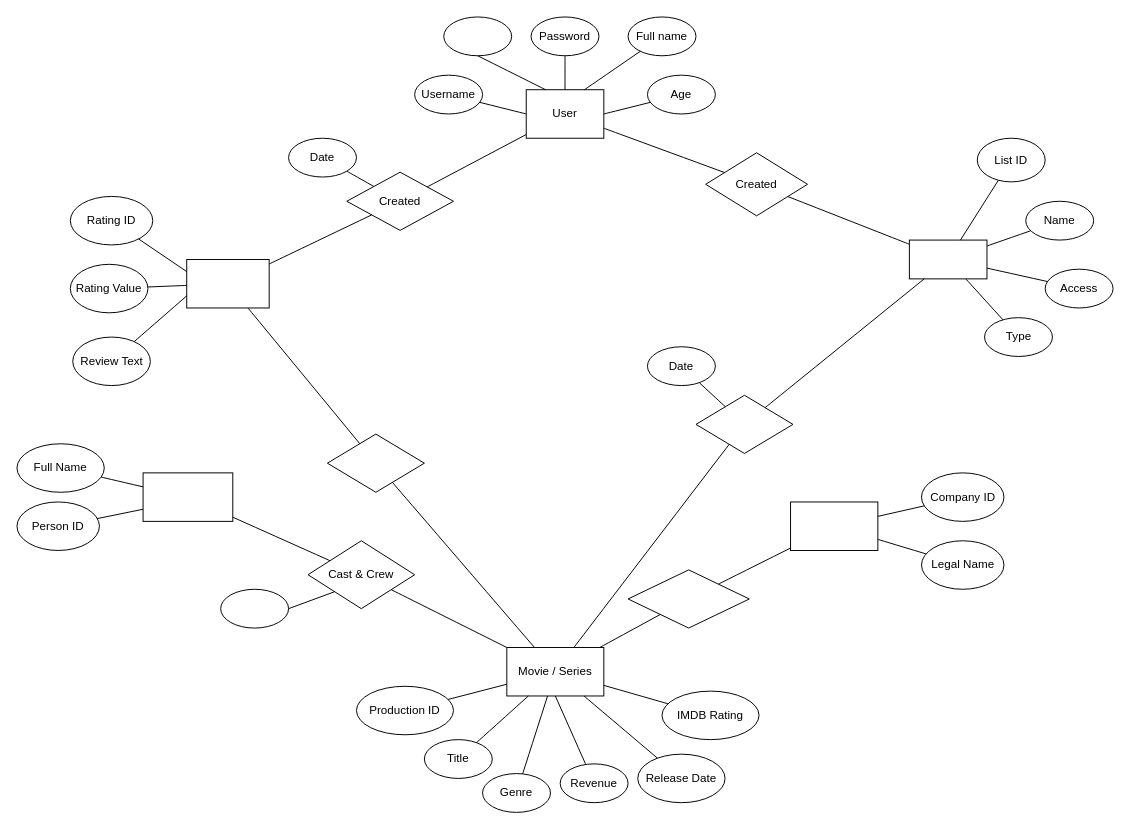
Image size: 1130x829. Some labels were removed from this diagram. The centre of each missing label's shape, as x and y in pixels:
Added: (x=744, y=423)
Company: (x=834, y=525)
Email: (x=477, y=36)
For: (x=375, y=462)
Lists: (x=947, y=259)
People: (x=187, y=496)
Produced: (x=688, y=598)
Rating: (x=227, y=283)
Role: (x=254, y=608)
